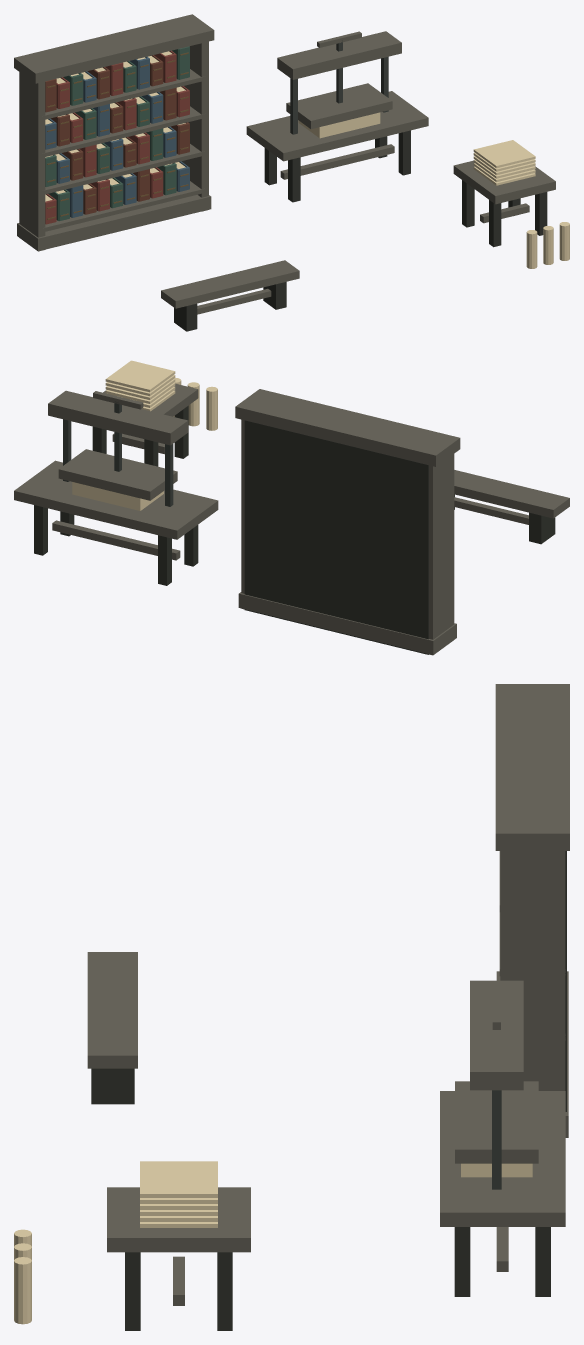
The model's file is village_bookbinder_artifacts.glb.
3 renders of one model, top to bottom at view 1: azimuth 30°, elevation 25°; view 2: azimuth 150°, elevation 25°; view 3: azimuth 270°, elevation 25°, orthographic. The views are drawn at different scales.
Parts seen in each view (by area): view 1: village_bookbinder_artifacts; view 2: village_bookbinder_artifacts; view 3: village_bookbinder_artifacts.
Boxes of the visible parts, x1=… form: village_bookbinder_artifacts: x1=14, y1=14, x2=569, y2=331; village_bookbinder_artifacts: x1=14, y1=360, x2=569, y2=655; village_bookbinder_artifacts: x1=14, y1=684, x2=569, y2=1330.
Bounding box in the file's own units: 6.72 × 2.84 × 4.63.
